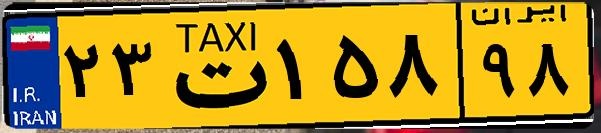1: (270, 28, 330, 110)
2: (57, 26, 110, 100)
3: (110, 28, 158, 98)
5: (330, 28, 385, 110)
8: (385, 28, 445, 110), (525, 38, 570, 115)
9: (475, 38, 525, 113)
ت: (158, 12, 270, 120)
